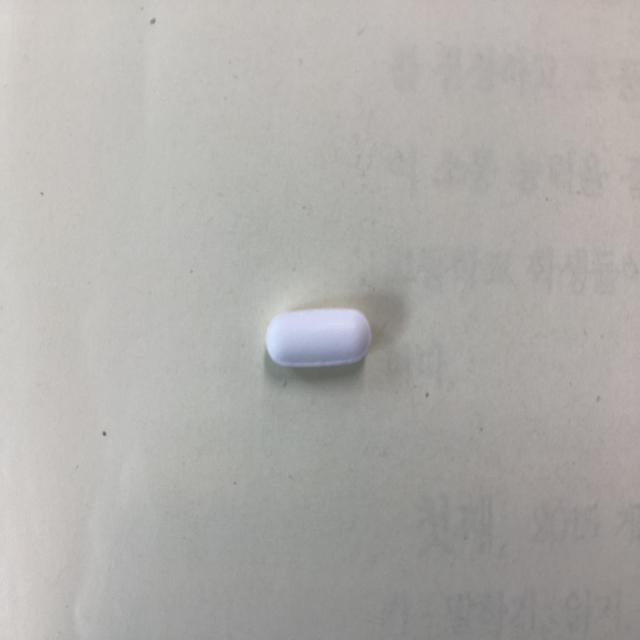-: (263, 298, 382, 380)
